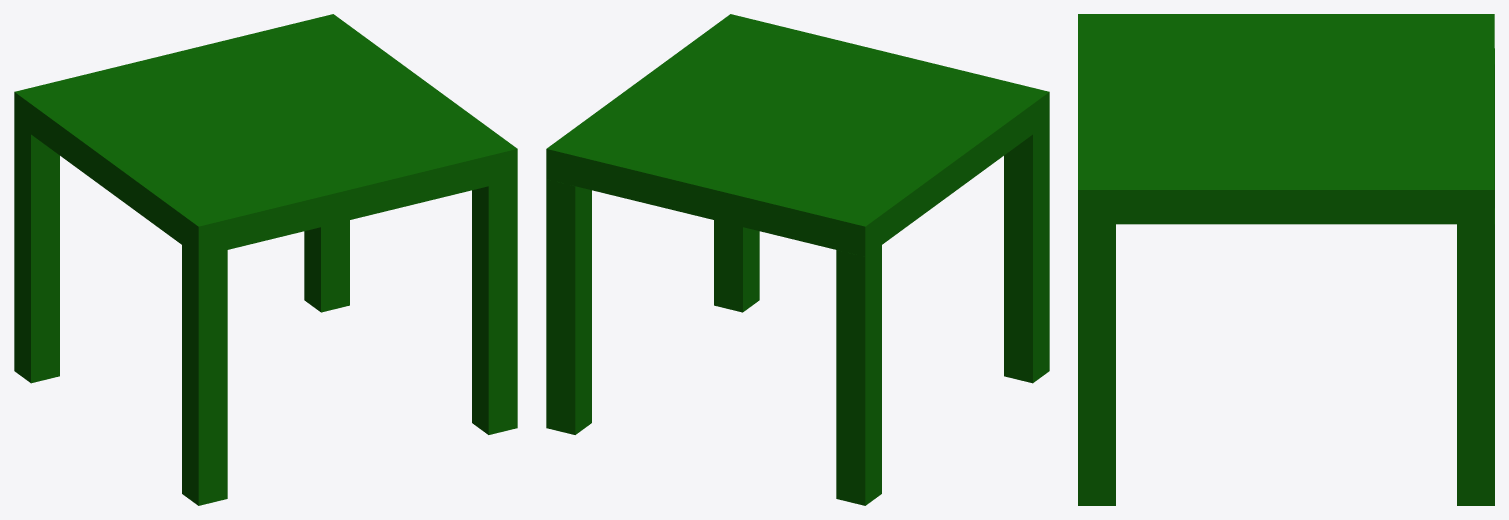
Rendered from Table 5.FBX.
3 renders of one model, left to right at view 1: azimuth 30°, elevation 25°; view 2: azimuth 150°, elevation 25°; view 3: azimuth 270°, elevation 25°, orthographic. The views are drawn at different scales.
Visible parts, largest first — view 1: Table 5; view 2: Table 5; view 3: Table 5.
Part boxes in pixels (box(x1,y1,x2,y2)): Table 5: box(14, 14, 517, 505); Table 5: box(546, 14, 1049, 505); Table 5: box(1078, 14, 1494, 505).
Size of the model in its own units: 55 by 46 by 55.01.
